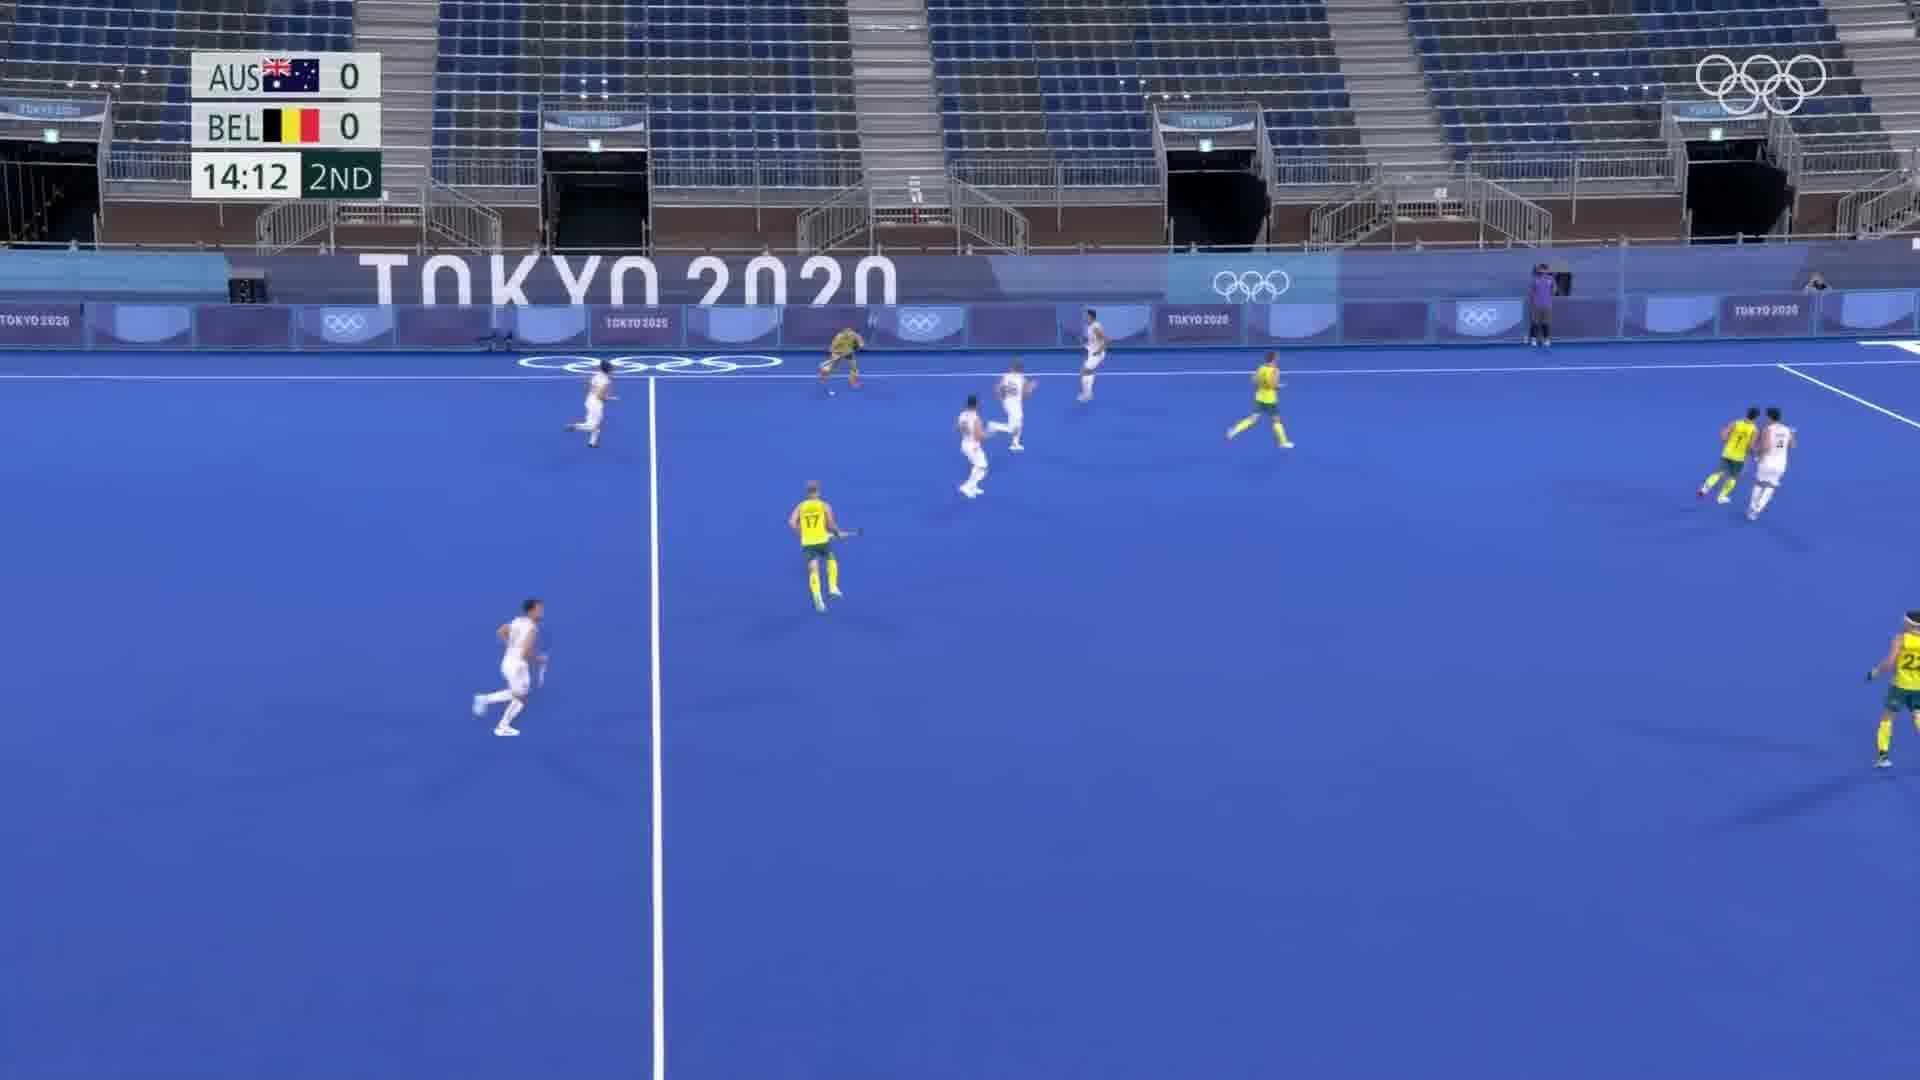ball: (825, 387, 840, 400)
